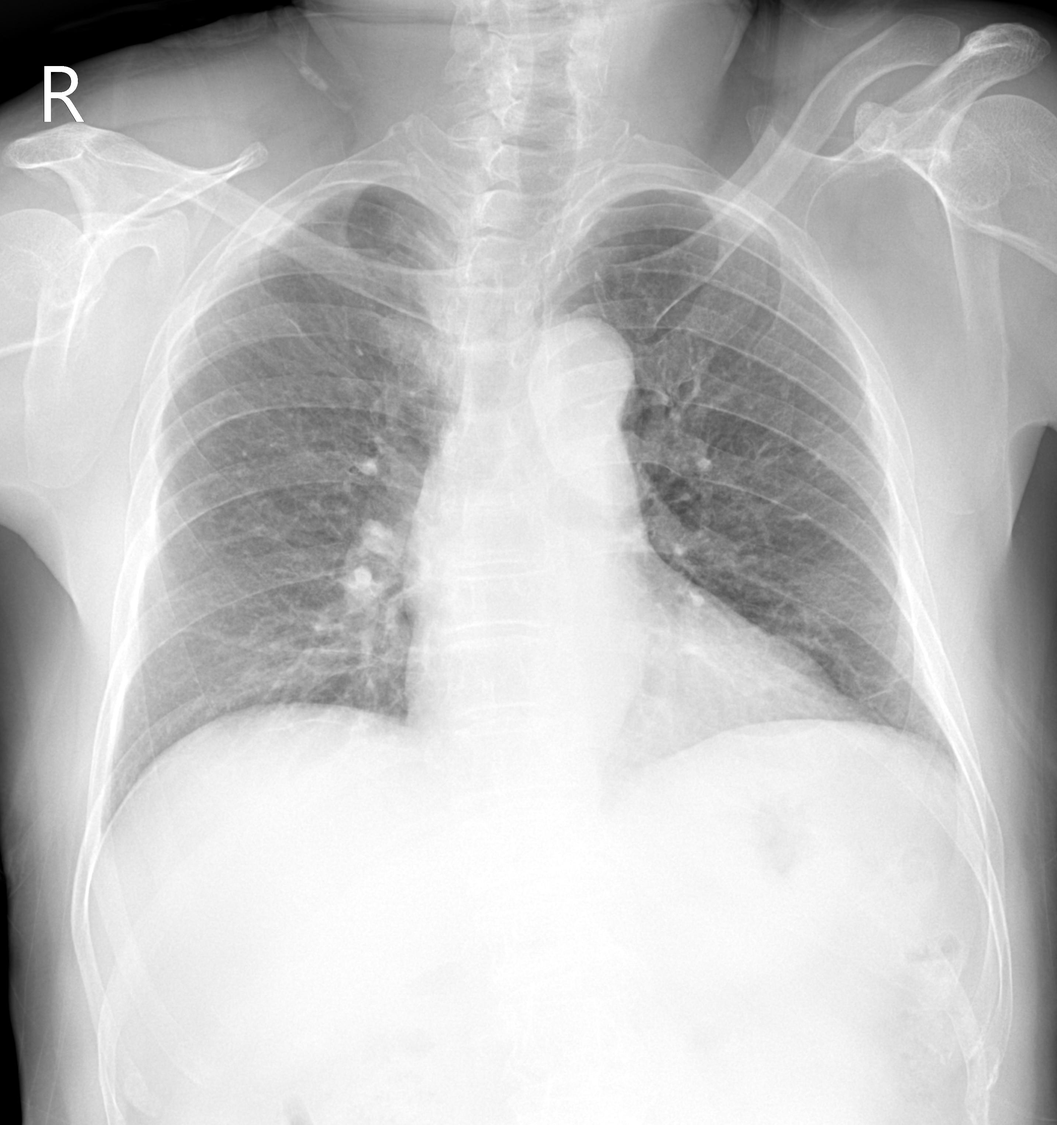Aortic enlargement: (511, 323, 635, 420)
Cardiomegaly: (396, 634, 868, 782)
Pleural thickening: (236, 166, 365, 269)
